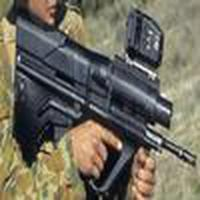gun: (11, 18, 197, 186)
